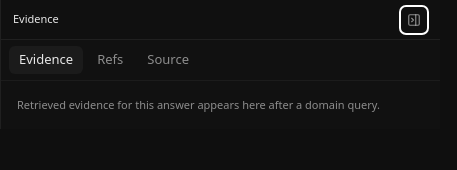
Scenario: EvidenceInspector parity (R10) › shows contextual empty states
Expected: the text "Retrieved evidence for this answer" is shown, [17,96,380,112]
Step 1. Click the tab with test id "inspector-tab-refs" → (110, 60), box [87,46,133,74]
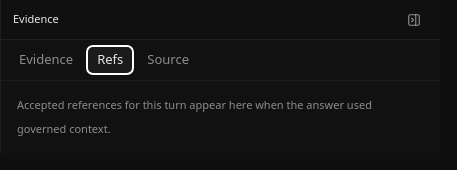
Now the text "Accepted references for this turn" is shown, box [17,96,372,136]
